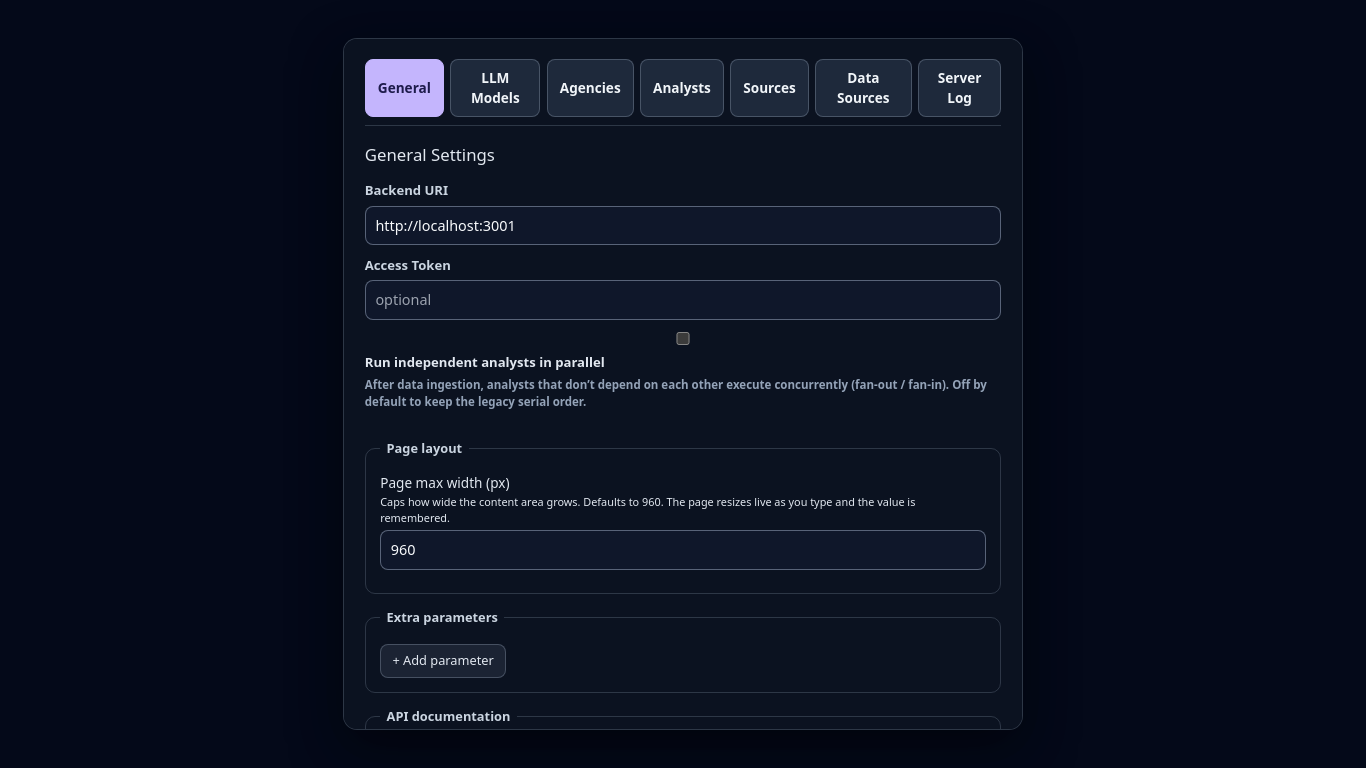
Scenario: SettingsDialog — Agencies tab › lists agencies and protects the default from deletion
Click the tab with test id "tab-agencies": x=590, y=88 [547,59,634,117]
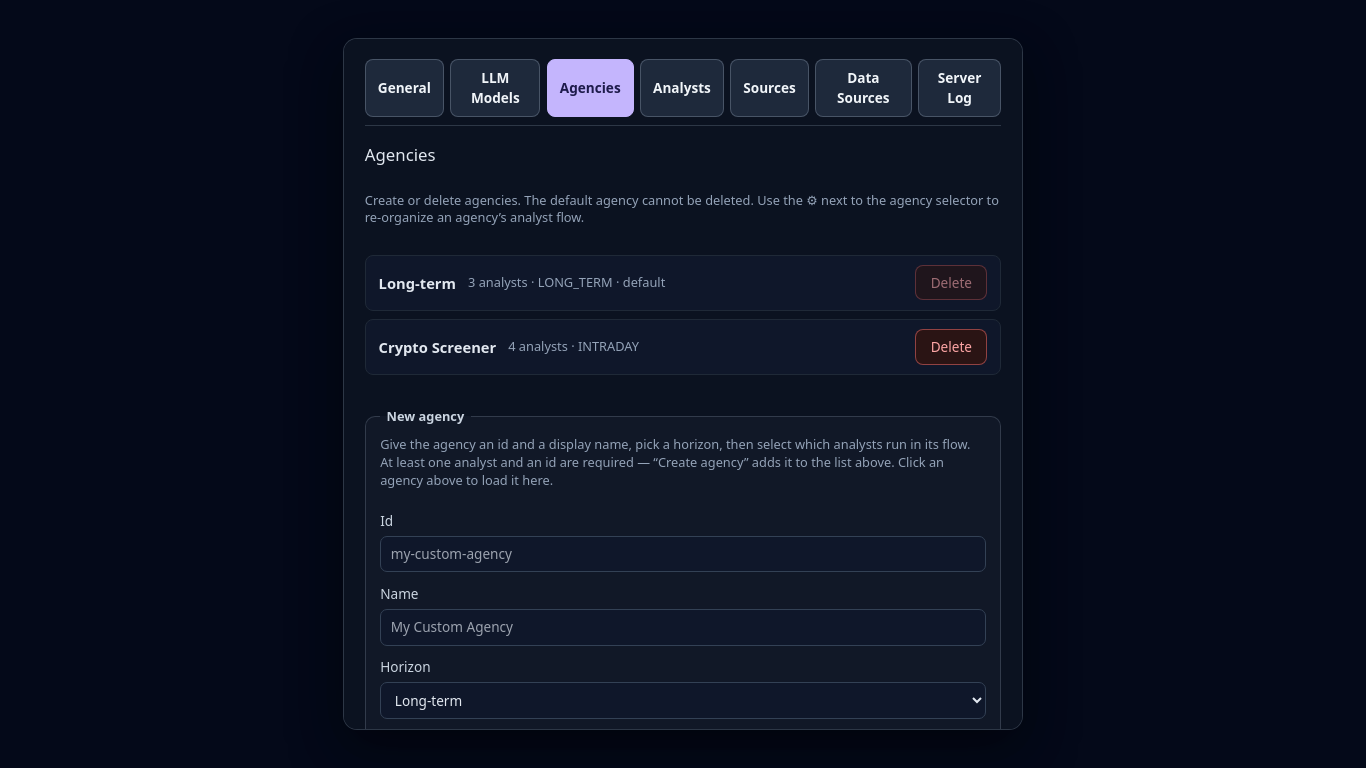
Expected: the list with test id "agency-admin-list" is shown, [365,254,1001,375]
Expected: the list item with test id "agency-admin-long-term" is shown, [365,254,1001,311]
Expected: the button with test id "agency-delete-long-term" is disabled, [915,265,987,300]
